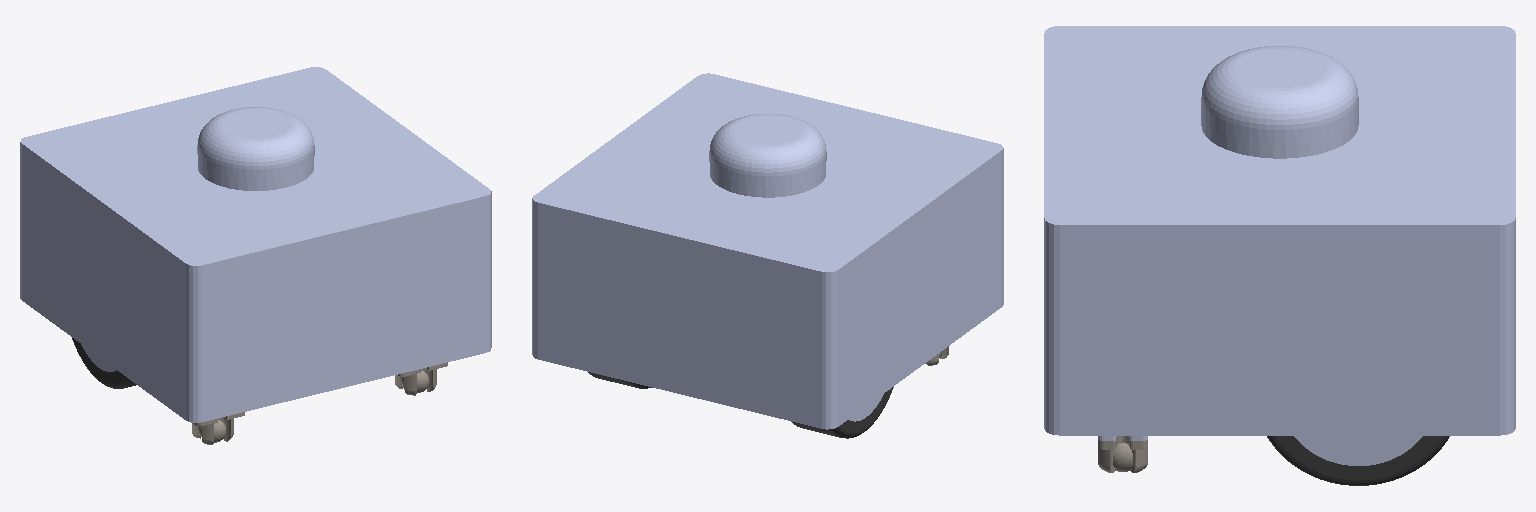
robot.urdf — capstone_robot:
<robot
  name="capstone_robot">
  <link
    name="base_link">
    <inertial>
      <origin
        xyz="-1.402E-18 0.002 0.0061406"
        rpy="0 0 0" />
      <mass
        value="0.07154" />
      <inertia
        ixx="0.00014529"
        ixy="2.2046E-22"
        ixz="-3.4141E-21"
        iyy="0.0002665"
        iyz="-6.4299E-23"
        izz="0.0001214" />
    </inertial>
    <visual>
      <origin
        xyz="0 0 0"
        rpy="0 0 0" />
      <geometry>
        <mesh
          filename="package://capstone_robot/meshes/base_link.STL" />
      </geometry>
      <material
        name="">
        <color
          rgba="0.79216 0.81961 0.93333 1" />
      </material>
    </visual>
    <collision>
      <origin
        xyz="0 0 0"
        rpy="0 0 0" />
      <geometry>
        <mesh
          filename="package://capstone_robot/meshes/base_link.STL" />
      </geometry>
    </collision>
  </link>
  <link
    name="right_motor">
    <inertial>
      <origin
        xyz="-7.9797E-17 0.00072466 0.00054983"
        rpy="0 0 0" />
      <mass
        value="0.003292" />
      <inertia
        ixx="1.7487E-07"
        ixy="1.5395E-09"
        ixz="9.4138E-23"
        iyy="2.0467E-07"
        iyz="-6.2479E-09"
        izz="1.0844E-07" />
    </inertial>
    <visual>
      <origin
        xyz="0 0 0"
        rpy="0 0 0" />
      <geometry>
        <mesh
          filename="package://capstone_robot/meshes/right_motor.STL" />
      </geometry>
      <material
        name="">
        <color
          rgba="0.79216 0.81961 0.93333 1" />
      </material>
    </visual>
    <collision>
      <origin
        xyz="0 0 0"
        rpy="0 0 0" />
      <geometry>
        <mesh
          filename="package://capstone_robot/meshes/right_motor.STL" />
      </geometry>
    </collision>
  </link>
  <joint
    name="base_to_right_motor"
    type="fixed">
    <origin
      xyz="-0.02825 0.025 0.009"
      rpy="1.5708 6.123E-17 1.5708" />
    <parent
      link="base_link" />
    <child
      link="right_motor" />
    <axis
      xyz="0 0 0" />
  </joint>
  <link
    name="right_shaft">
    <inertial>
      <origin
        xyz="0 -0.00018579 0.0049871"
        rpy="0 0 0" />
      <mass
        value="6.8914E-05" />
      <inertia
        ixx="6.0869E-10"
        ixy="3.2312E-27"
        ixz="2.4335E-26"
        iyy="6.2323E-10"
        iyz="6.5664E-12"
        izz="7.8654E-11" />
    </inertial>
    <visual>
      <origin
        xyz="0 0 0"
        rpy="0 0 0" />
      <geometry>
        <mesh
          filename="package://capstone_robot/meshes/right_shaft.STL" />
      </geometry>
      <material
        name="">
        <color
          rgba="0.79216 0.81961 0.93333 1" />
      </material>
    </visual>
    <collision>
      <origin
        xyz="0 0 0"
        rpy="0 0 0" />
      <geometry>
        <mesh
          filename="package://capstone_robot/meshes/right_shaft.STL" />
      </geometry>
    </collision>
  </link>
  <joint
    name="motor_to_right_shaft"
    type="continuous">
    <origin
      xyz="0 0 -0.01585"
      rpy="3.1416 0 -1.6591" />
    <parent
      link="right_motor" />
    <child
      link="right_shaft" />
    <axis
      xyz="0 0 -1" />
  </joint>
  <link
    name="right_wheel">
    <inertial>
      <origin
        xyz="-0.0027007 5.9256E-06 3.4694E-18"
        rpy="0 0 0" />
      <mass
        value="0.018836" />
      <inertia
        ixx="8.3689E-06"
        ixy="-1.1897E-10"
        ixz="8.3106E-22"
        iyy="5.3127E-06"
        iyz="3.4411E-22"
        izz="5.3122E-06" />
    </inertial>
    <visual>
      <origin
        xyz="0 0 0"
        rpy="0 0 0" />
      <geometry>
        <mesh
          filename="package://capstone_robot/meshes/right_wheel.STL" />
      </geometry>
      <material
        name="">
        <color
          rgba="0.79216 0.81961 0.93333 1" />
      </material>
    </visual>
    <collision>
      <origin
        xyz="0 0 0"
        rpy="0 0 0" />
      <geometry>
        <mesh
          filename="package://capstone_robot/meshes/right_wheel.STL" />
      </geometry>
    </collision>
  </link>
  <joint
    name="motor_to_right_wheel"
    type="fixed">
    <origin
      xyz="0 0 0.006425"
      rpy="3.1416 1.5708 0" />
    <parent
      link="right_shaft" />
    <child
      link="right_wheel" />
    <axis
      xyz="0 0 0" />
  </joint>
  <link
    name="right_tire">
    <inertial>
      <origin
        xyz="0.000375 1.7347E-18 6.9389E-18"
        rpy="0 0 0" />
      <mass
        value="0.037047" />
      <inertia
        ixx="3.2559E-05"
        ixy="1.2613E-22"
        ixz="1.0461E-21"
        iyy="1.8229E-05"
        iyz="-8.4703E-22"
        izz="1.8229E-05" />
    </inertial>
    <visual>
      <origin
        xyz="0 0 0"
        rpy="0 0 0" />
      <geometry>
        <mesh
          filename="package://capstone_robot/meshes/right_tire.STL" />
      </geometry>
      <material
        name="">
        <color
          rgba="0.29804 0.29804 0.29804 1" />
      </material>
    </visual>
    <collision>
      <origin
        xyz="0 0 0"
        rpy="0 0 0" />
      <geometry>
        <mesh
          filename="package://capstone_robot/meshes/right_tire.STL" />
      </geometry>
    </collision>
  </link>
  <joint
    name="wheel_to_right_tire"
    type="fixed">
    <origin
      xyz="0 0 0"
      rpy="2.3195 0 0" />
    <parent
      link="right_wheel" />
    <child
      link="right_tire" />
    <axis
      xyz="1 0 0" />
  </joint>
  <link
    name="left_motor">
    <inertial>
      <origin
        xyz="3.1225E-17 0.00072466 -0.0072998"
        rpy="0 0 0" />
      <mass
        value="0.003292" />
      <inertia
        ixx="1.7487E-07"
        ixy="-1.5395E-09"
        ixz="-5.8937E-23"
        iyy="2.0467E-07"
        iyz="6.2479E-09"
        izz="1.0844E-07" />
    </inertial>
    <visual>
      <origin
        xyz="0 0 0"
        rpy="0 0 0" />
      <geometry>
        <mesh
          filename="package://capstone_robot/meshes/left_motor.STL" />
      </geometry>
      <material
        name="">
        <color
          rgba="0.79216 0.81961 0.93333 1" />
      </material>
    </visual>
    <collision>
      <origin
        xyz="0 0 0"
        rpy="0 0 0" />
      <geometry>
        <mesh
          filename="package://capstone_robot/meshes/left_motor.STL" />
      </geometry>
    </collision>
  </link>
  <joint
    name="base_to_left_motor"
    type="fixed">
    <origin
      xyz="0.035 0.025 0.009"
      rpy="1.5708 6.123E-17 1.5708" />
    <parent
      link="base_link" />
    <child
      link="left_motor" />
    <axis
      xyz="0 0 0" />
  </joint>
  <link
    name="left_shaft">
    <inertial>
      <origin
        xyz="-3.4694E-18 -0.00018579 0.0049871"
        rpy="0 0 0" />
      <mass
        value="6.8914E-05" />
      <inertia
        ixx="6.0869E-10"
        ixy="-6.2252E-29"
        ixz="-2.2996E-26"
        iyy="6.2323E-10"
        iyz="6.5664E-12"
        izz="7.8654E-11" />
    </inertial>
    <visual>
      <origin
        xyz="0 0 0"
        rpy="0 0 0" />
      <geometry>
        <mesh
          filename="package://capstone_robot/meshes/left_shaft.STL" />
      </geometry>
      <material
        name="">
        <color
          rgba="0.79216 0.81961 0.93333 1" />
      </material>
    </visual>
    <collision>
      <origin
        xyz="0 0 0"
        rpy="0 0 0" />
      <geometry>
        <mesh
          filename="package://capstone_robot/meshes/left_shaft.STL" />
      </geometry>
    </collision>
  </link>
  <joint
    name="motor_to_left_shaft"
    type="continuous">
    <origin
      xyz="0 0 0.0091"
      rpy="0 0 0" />
    <parent
      link="left_motor" />
    <child
      link="left_shaft" />
    <axis
      xyz="0 0 1" />
  </joint>
  <link
    name="left_wheel">
    <inertial>
      <origin
        xyz="-0.0027007 5.9256E-06 0"
        rpy="0 0 0" />
      <mass
        value="0.018836" />
      <inertia
        ixx="8.3689E-06"
        ixy="-1.1897E-10"
        ixz="7.7735E-22"
        iyy="5.3127E-06"
        iyz="-1.8975E-25"
        izz="5.3122E-06" />
    </inertial>
    <visual>
      <origin
        xyz="0 0 0"
        rpy="0 0 0" />
      <geometry>
        <mesh
          filename="package://capstone_robot/meshes/left_wheel.STL" />
      </geometry>
      <material
        name="">
        <color
          rgba="0.79216 0.81961 0.93333 1" />
      </material>
    </visual>
    <collision>
      <origin
        xyz="0 0 0"
        rpy="0 0 0" />
      <geometry>
        <mesh
          filename="package://capstone_robot/meshes/left_wheel.STL" />
      </geometry>
    </collision>
  </link>
  <joint
    name="shaft_to_left_wheel"
    type="fixed">
    <origin
      xyz="0 0 0.006425"
      rpy="3.1416 1.5708 0" />
    <parent
      link="left_shaft" />
    <child
      link="left_wheel" />
    <axis
      xyz="0 0 0" />
  </joint>
  <link
    name="left_tire">
    <inertial>
      <origin
        xyz="-0.000375 0 0"
        rpy="0 0 0" />
      <mass
        value="0.037047" />
      <inertia
        ixx="3.2559E-05"
        ixy="-7.6407E-38"
        ixz="-3.4108E-23"
        iyy="1.8229E-05"
        iyz="2.1176E-21"
        izz="1.8229E-05" />
    </inertial>
    <visual>
      <origin
        xyz="0 0 0"
        rpy="0 0 0" />
      <geometry>
        <mesh
          filename="package://capstone_robot/meshes/left_tire.STL" />
      </geometry>
      <material
        name="">
        <color
          rgba="0.29804 0.29804 0.29804 1" />
      </material>
    </visual>
    <collision>
      <origin
        xyz="0 0 0"
        rpy="0 0 0" />
      <geometry>
        <mesh
          filename="package://capstone_robot/meshes/left_tire.STL" />
      </geometry>
    </collision>
  </link>
  <joint
    name="wheel_to_left_tire"
    type="fixed">
    <origin
      xyz="0 0 0"
      rpy="-2.0648 0 3.1416" />
    <parent
      link="left_wheel" />
    <child
      link="left_tire" />
    <axis
      xyz="1 0 0" />
  </joint>
  <link
    name="support">
    <inertial>
      <origin
        xyz="-0.049733 0.004 -0.00066873"
        rpy="0 0 0" />
      <mass
        value="0.0051276" />
      <inertia
        ixx="1.4388E-07"
        ixy="1.0567E-24"
        ixz="9.4647E-22"
        iyy="1.3156E-05"
        iyz="-1.7831E-26"
        izz="1.3067E-05" />
    </inertial>
    <visual>
      <origin
        xyz="0 0 0"
        rpy="0 0 0" />
      <geometry>
        <mesh
          filename="package://capstone_robot/meshes/support.STL" />
      </geometry>
      <material
        name="">
        <color
          rgba="0.79216 0.81961 0.93333 1" />
      </material>
    </visual>
    <collision>
      <origin
        xyz="0 0 0"
        rpy="0 0 0" />
      <geometry>
        <mesh
          filename="package://capstone_robot/meshes/support.STL" />
      </geometry>
    </collision>
  </link>
  <joint
    name="base_to_support"
    type="fixed">
    <origin
      xyz="0.049733 -0.050669 -0.008"
      rpy="1.5708 0 0" />
    <parent
      link="base_link" />
    <child
      link="support" />
    <axis
      xyz="0 0 0" />
  </joint>
  <link
    name="caster">
    <inertial>
      <origin
        xyz="0.049733 0.006147 -0.00066854"
        rpy="0 0 0" />
      <mass
        value="0.038393" />
      <inertia
        ixx="1.4039E-06"
        ixy="-9.7621E-20"
        ixz="-2.7424E-21"
        iyy="9.7614E-05"
        iyz="9.041E-12"
        izz="9.7672E-05" />
    </inertial>
    <visual>
      <origin
        xyz="0 0 0"
        rpy="0 0 0" />
      <geometry>
        <mesh
          filename="package://capstone_robot/meshes/caster.STL" />
      </geometry>
      <material
        name="">
        <color
          rgba="0.64706 0.61961 0.58824 1" />
      </material>
    </visual>
    <collision>
      <origin
        xyz="0 0 0"
        rpy="0 0 0" />
      <geometry>
        <mesh
          filename="package://capstone_robot/meshes/caster.STL" />
      </geometry>
    </collision>
  </link>
  <joint
    name="support_to_caster"
    type="fixed">
    <origin
      xyz="0 0 0"
      rpy="0 0 3.1416" />
    <parent
      link="support" />
    <child
      link="caster" />
    <axis
      xyz="0 0 0" />
  </joint>
  <link
    name="case">
    <inertial>
      <origin
        xyz="1.2053E-18 0.045965 5.0016E-18"
        rpy="0 0 0" />
      <mass
        value="0.24273" />
      <inertia
        ixx="0.00083392"
        ixy="2.2158E-19"
        ixz="2.4093E-19"
        iyy="0.001418"
        iyz="-1.1099E-19"
        izz="0.00083392" />
    </inertial>
    <visual>
      <origin
        xyz="0 0 0"
        rpy="0 0 0" />
      <geometry>
        <mesh
          filename="package://capstone_robot/meshes/case.STL" />
      </geometry>
      <material
        name="">
        <color
          rgba="0.79216 0.81961 0.93333 1" />
      </material>
    </visual>
    <collision>
      <origin
        xyz="0 0 0"
        rpy="0 0 0" />
      <geometry>
        <mesh
          filename="package://capstone_robot/meshes/case.STL" />
      </geometry>
    </collision>
  </link>
  <joint
    name="base_to_case"
    type="fixed">
    <origin
      xyz="0 0 0.004"
      rpy="1.5707963267949 0 0" />
    <parent
      link="base_link" />
    <child
      link="case" />
    <axis
      xyz="0 0 0" />
  </joint>
  <link
    name="lidar">
    <inertial>
      <origin
        xyz="-2.568E-35 0.0093491 -8.7287E-19"
        rpy="0 0 0" />
      <mass
        value="0.0362" />
      <inertia
        ixx="6.4264E-06"
        ixy="-1.093E-38"
        ixz="-3.1232E-38"
        iyy="1.0649E-05"
        iyz="-2.6259E-22"
        izz="6.4264E-06" />
    </inertial>
    <visual>
      <origin
        xyz="0 0 0"
        rpy="0 0 0" />
      <geometry>
        <mesh
          filename="package://capstone_robot/meshes/lidar.STL" />
      </geometry>
      <material
        name="">
        <color
          rgba="0.79216 0.81961 0.93333 1" />
      </material>
    </visual>
    <collision>
      <origin
        xyz="0 0 0"
        rpy="0 0 0" />
      <geometry>
        <mesh
          filename="package://capstone_robot/meshes/lidar.STL" />
      </geometry>
    </collision>
  </link>
  <joint
    name="case_to_lidar"
    type="fixed">
    <origin
      xyz="0 0.07 0"
      rpy="0 0 0" />
    <parent
      link="case" />
    <child
      link="lidar" />
    <axis
      xyz="0 0 0" />
  </joint>

  <gazebo regerence="base_link">
    <material>Gazebo/Blue</material>
  </gazebo>

  <gazebo regerence="left_tire">
    <material>Gazebo/Black</material>
  </gazebo>

  <gazebo regerence="right_tire">
    <material>Gazebo/Black</material>
  </gazebo>

  <gazebo regerence="left_wheel">
    <material>Gazebo/White</material>
  </gazebo>

  <gazebo regerence="right_wheel">
    <material>Gazebo/White</material>
  </gazebo>

  <gazebo>
    <plugin name="capstone_control" filename="libgazebo_ros_diff_drive.so">
      <alwaysOn>true</alwaysOn>
      <updateRate>20</updateRate>
      <legacyMode>false</legacyMode>
      <leftJoint>motor_to_left_shaft</leftJoint>
      <rightJoint>motor_to_right_shaft</rightJoint>
      <wheelSeparation>0.1</wheelSeparation>
      <wheelDiameter>0.022</wheelDiameter>
      <wheelTorque>0.7</wheelTorque>
      <wheelAcceleration>1</wheelAcceleration>
      <commandTopic>cmd_vel</commandTopic>
      <odometryTopic>odom</odometryTopic>
      <odometryFrame>odom</odometryFrame>
      <odometrySource>world</odometrySource>
      <publishOdomTF>true</publishOdomTF>
      <publishWheelJointState>true</publishWheelJointState>
      <publishWheelTF>false</publishWheelTF>
      <publishTf>true</publishTf>
      <robotBaseFrame>base</robotBaseFrame>
      <rosDebugLevel>na</rosDebugLevel>
    </plugin>
  </gazebo>

</robot>

--- Render facts (derived) ---
The picture shows the robot from 3 angles, left to right: view 1: azimuth 30°, elevation 25°; view 2: azimuth 150°, elevation 25°; view 3: azimuth 270°, elevation 25°; orthographic projection.
Model capstone_robot with 13 links and 12 joints (2 continuous, 10 fixed), rooted at base_link, posed every joint at zero.
Links seen in each view (by area): view 1: case, lidar, base_link, caster, right_tire; view 2: case, lidar, base_link, right_tire; view 3: case, lidar, base_link, left_tire, left_wheel, caster.
Link boxes in pixels (x1,y1,x2,y2): case: (20, 67, 491, 414); lidar: (197, 107, 314, 190); base_link: (20, 290, 491, 422); caster: (192, 362, 447, 444); right_tire: (72, 338, 136, 388); case: (532, 73, 1003, 420); lidar: (709, 114, 826, 197); base_link: (532, 297, 1003, 429); right_tire: (791, 387, 893, 438); case: (1044, 26, 1515, 423); lidar: (1201, 46, 1358, 158); base_link: (1044, 418, 1515, 435); left_tire: (1267, 436, 1449, 485); left_wheel: (1294, 436, 1422, 465); caster: (1098, 436, 1147, 472).
Size in the robot's own frame: 0.15 by 0.15 by 0.1184 metres.
13 mesh visuals loaded from 13 distinct referenced files (13 binary STL).